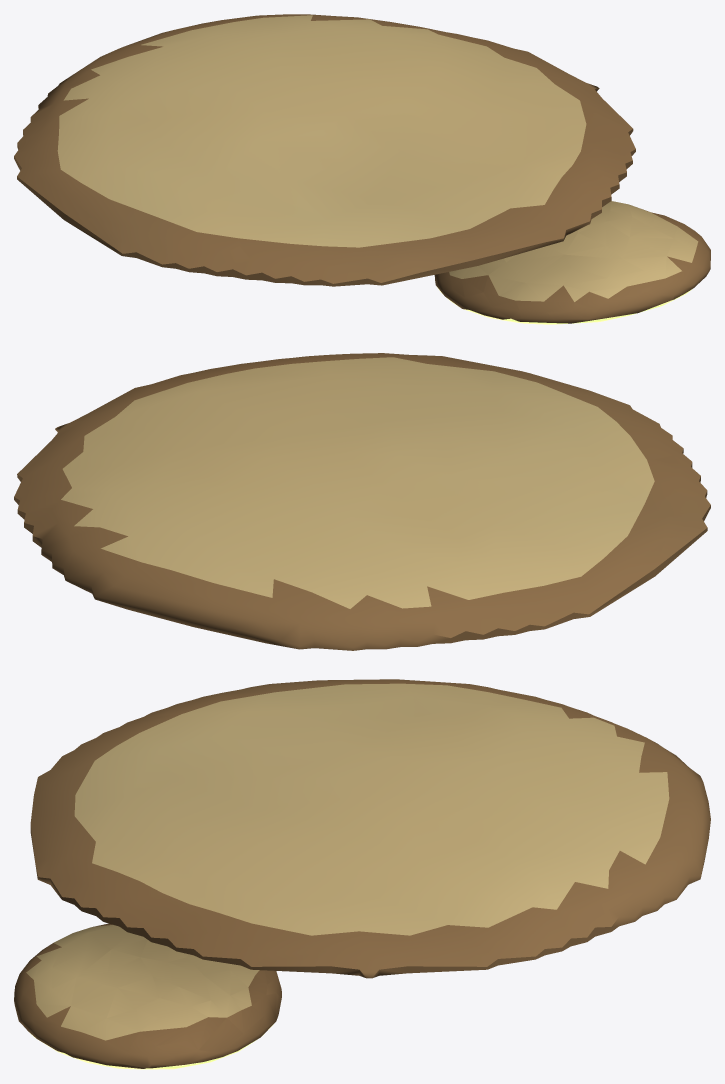
File: mire_bracket_fungus_lod1.glb
3 renders of one model, top to bottom at view 1: azimuth 30°, elevation 25°; view 2: azimuth 150°, elevation 25°; view 3: azimuth 270°, elevation 25°, orthographic. The views are drawn at different scales.
Parts seen in each view (by area): view 1: mire_bracket_fungus.001; view 2: mire_bracket_fungus.001; view 3: mire_bracket_fungus.001.
Part boxes in pixels (left/top/right/bottom): mire_bracket_fungus.001: left=14, top=14, right=710, bottom=324; mire_bracket_fungus.001: left=14, top=353, right=710, bottom=650; mire_bracket_fungus.001: left=14, top=679, right=710, bottom=1069.
Size of the model in its own units: 5.03 by 1.21 by 5.03.
